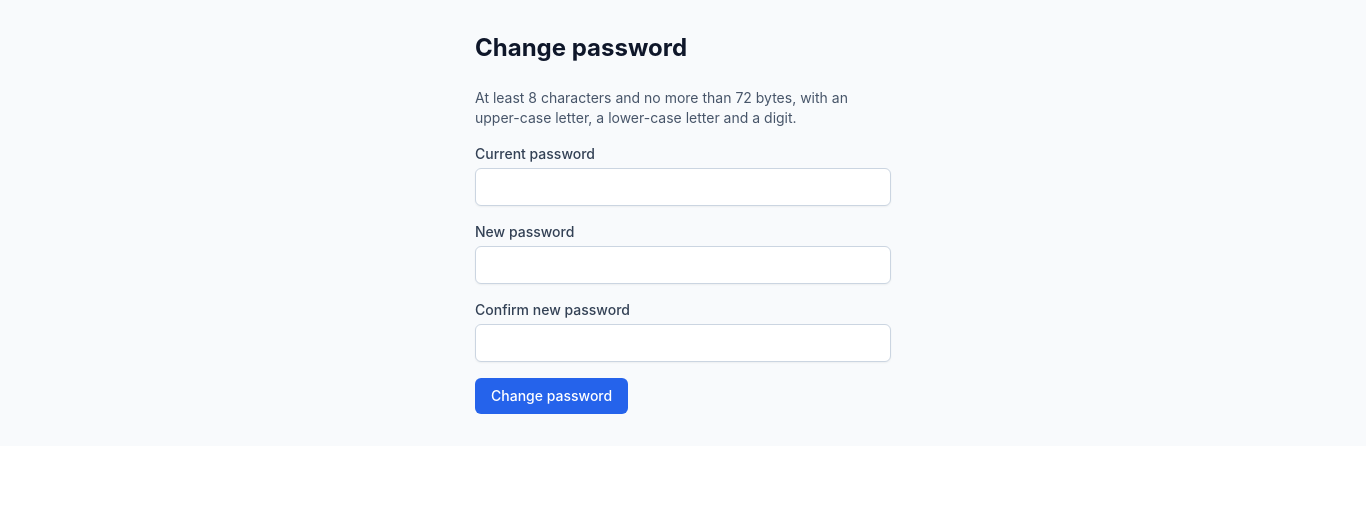
Test: ChangePasswordPage › shows the fixed sentence for missing (HTTP 403) and no server text
Type "OldPass1" into the password field with test id "current-password-input" at (683, 187), box [475,168,891,206]
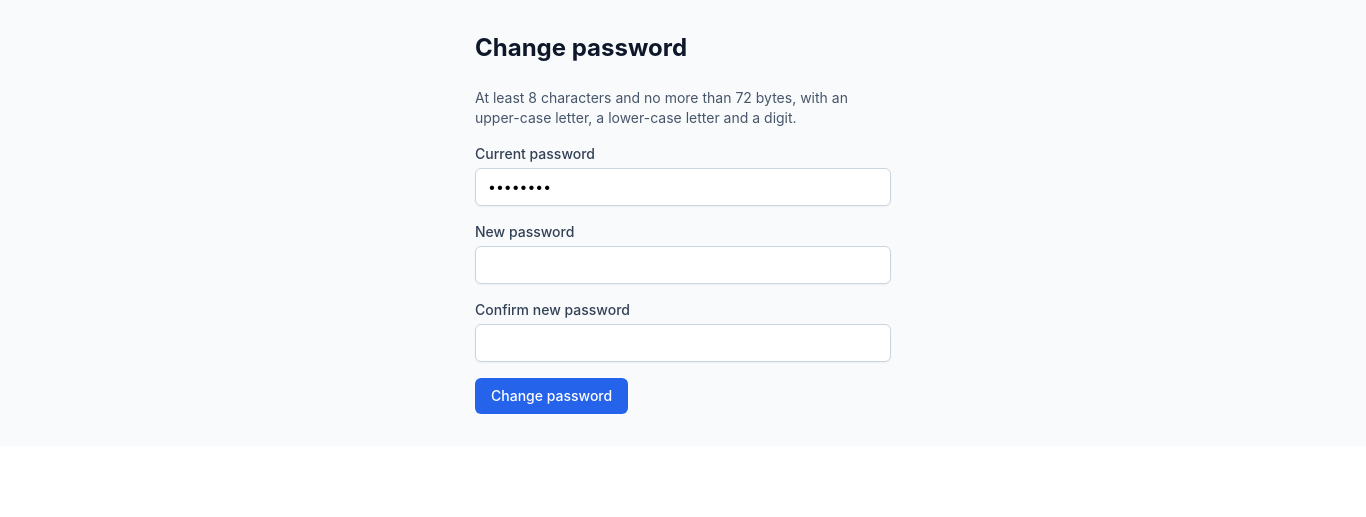
Type "NewPass12" into the password field with test id "new-password-input" at (683, 265), box [475,246,891,284]
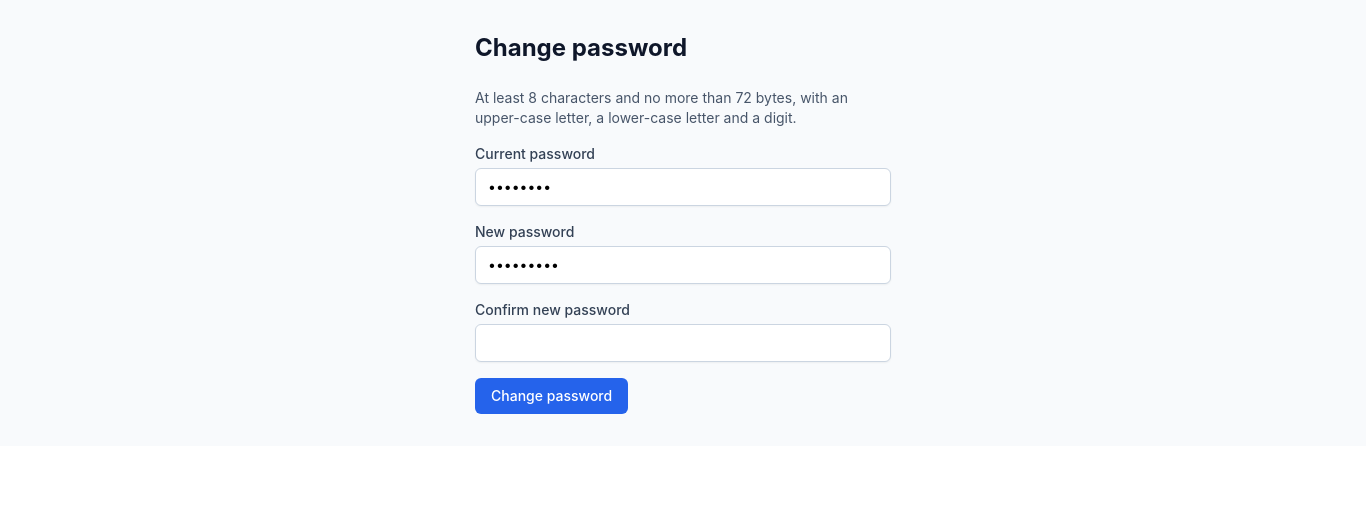
Type "NewPass12" into the password field with test id "confirm-password-input" at (683, 343), box [475,324,891,362]
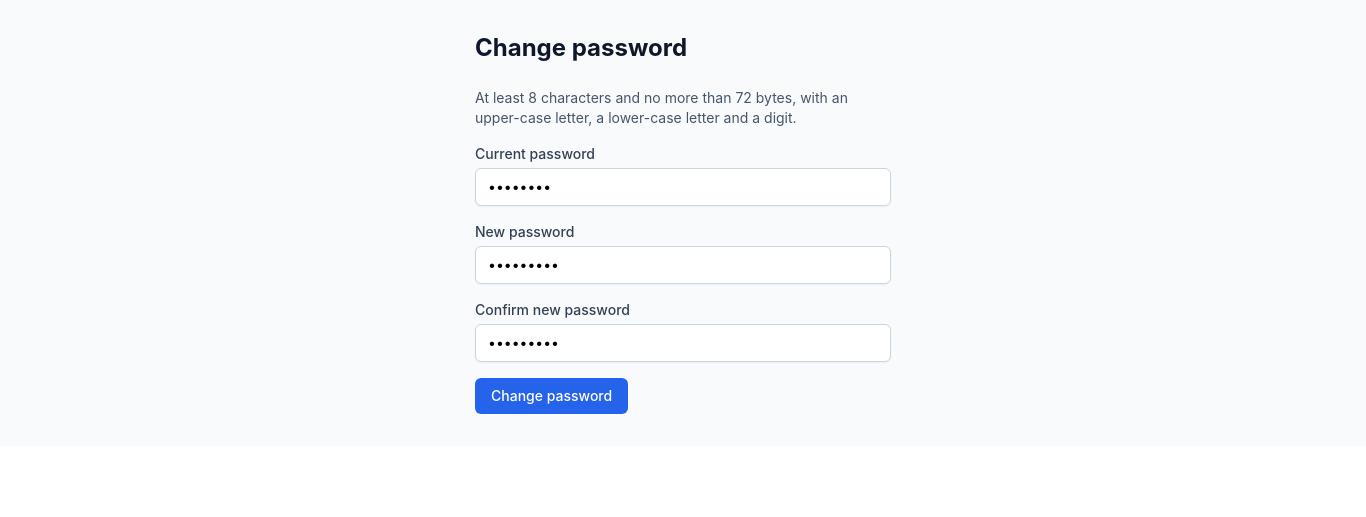
Click the button with test id "change-password-submit" at (552, 396), box [475,378,628,414]
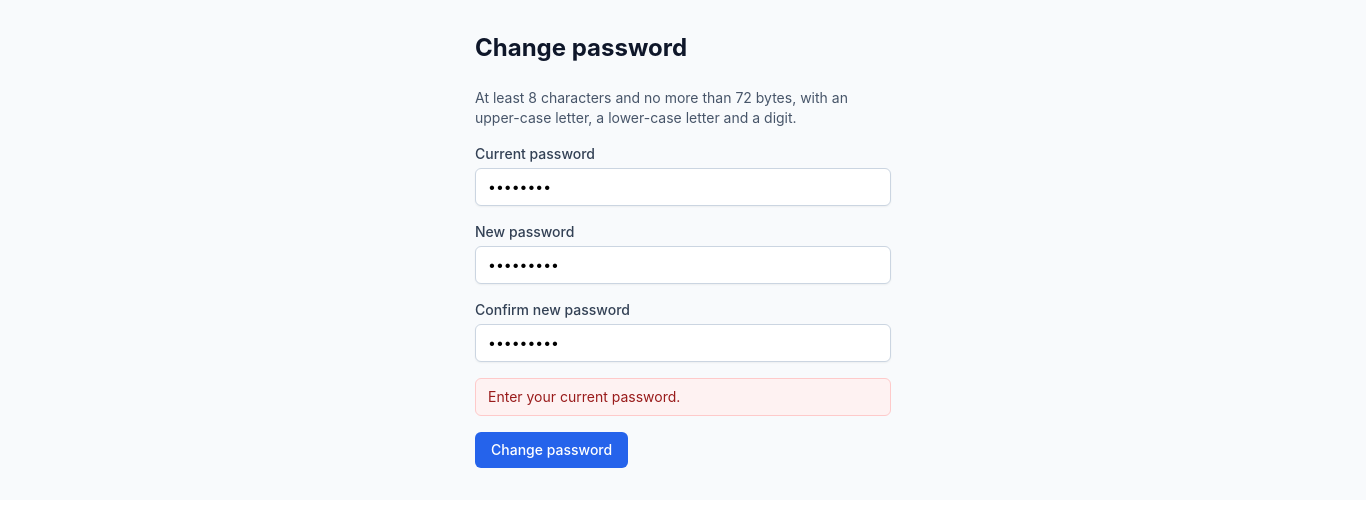
Result: the message with test id "change-password-outcome" reads "Enter your current password." at [488,388,680,405]
